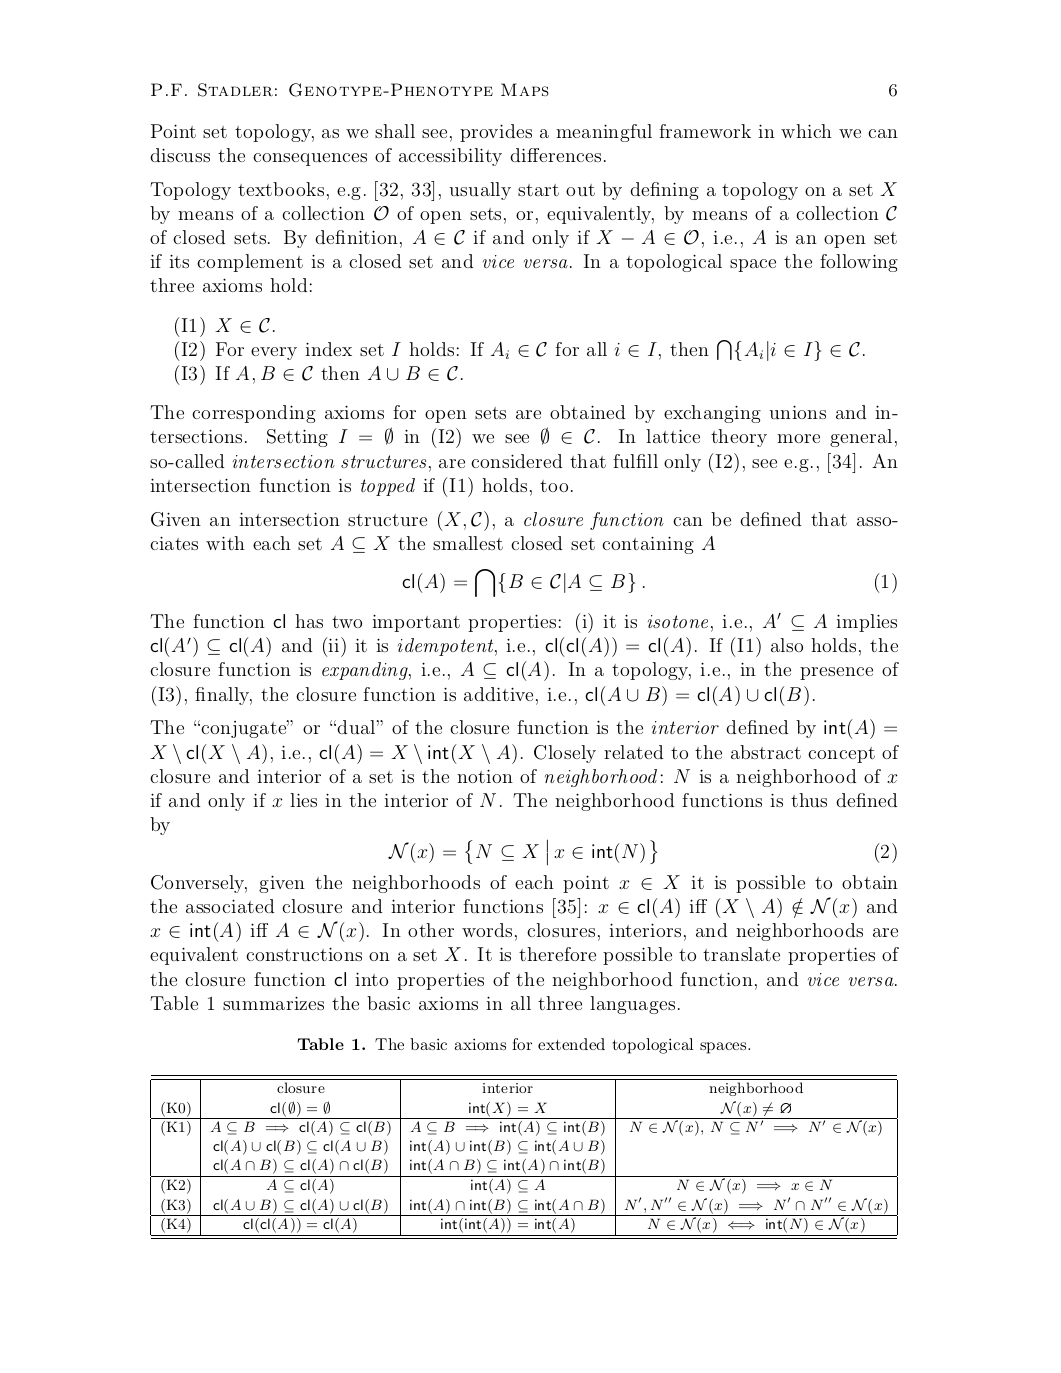Table: (150, 1074, 897, 1239)
formula: (402, 568, 896, 597), (388, 838, 896, 866), (175, 317, 274, 337)
